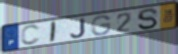2: (116, 12, 133, 33)
C: (20, 24, 42, 46)
G: (91, 14, 112, 37)
I: (49, 20, 58, 44)
J: (70, 17, 87, 39)
S: (136, 7, 160, 31)
